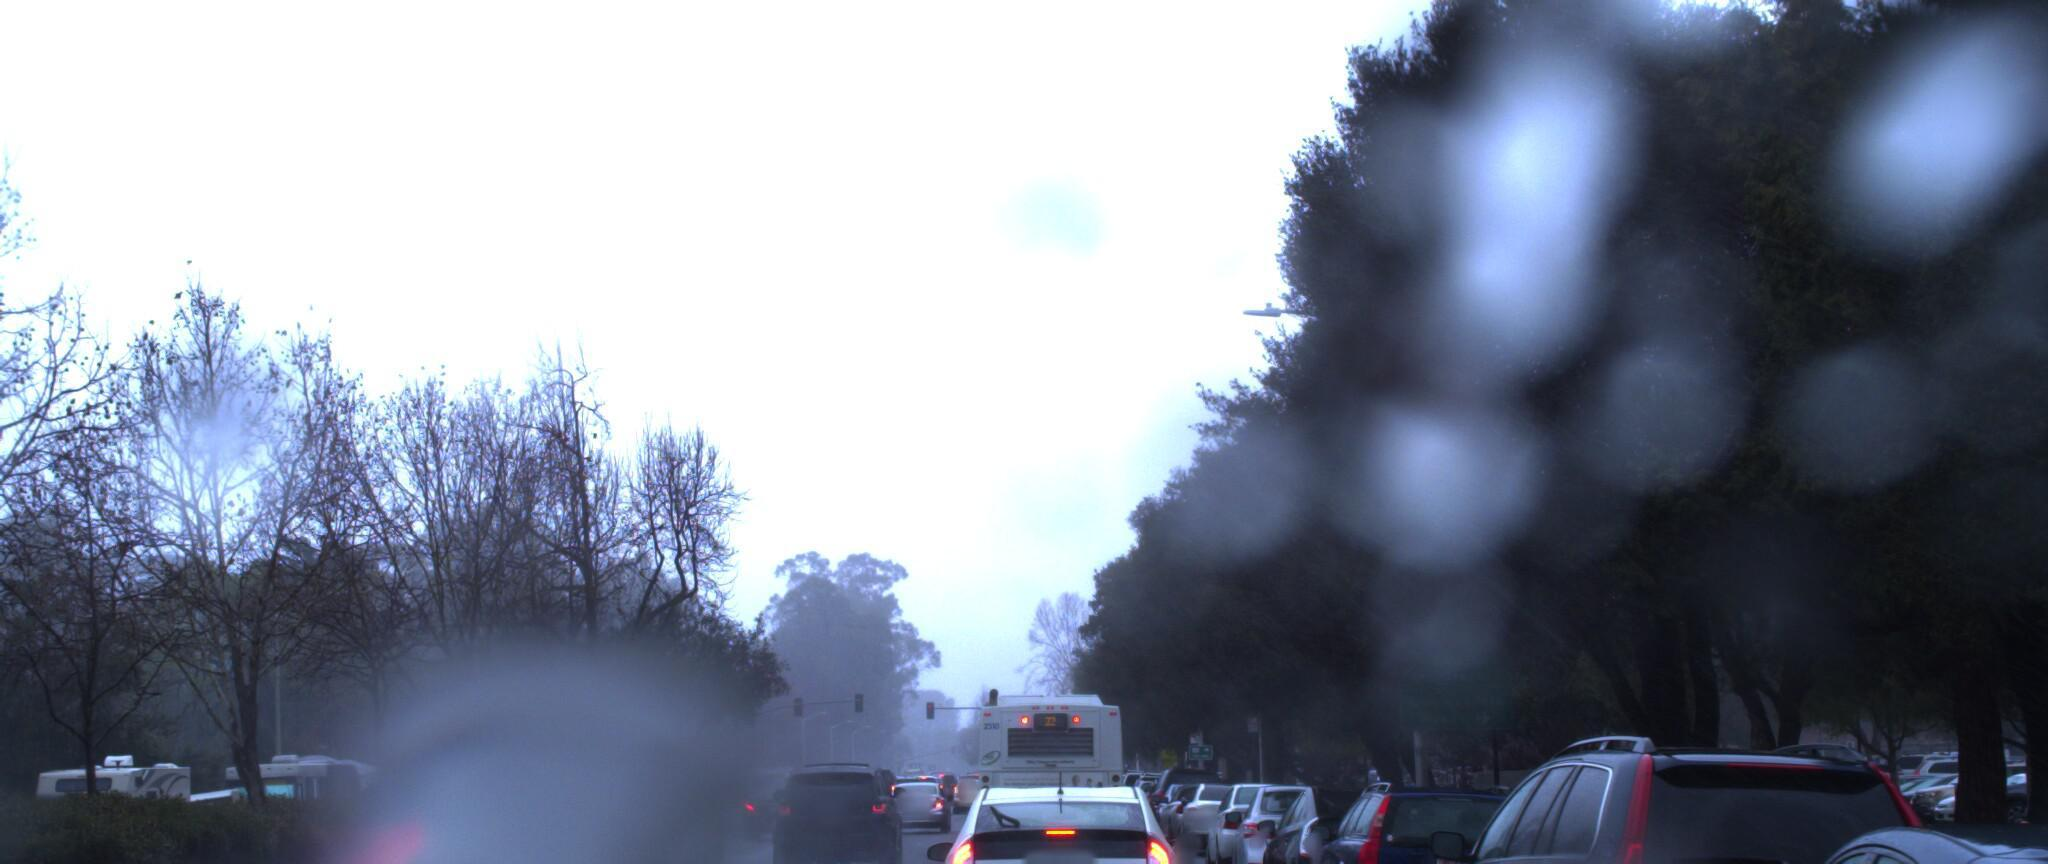bus: (970, 676, 1138, 864)
car: (1358, 724, 1975, 864), (933, 766, 1202, 864), (1643, 801, 2048, 864), (1271, 783, 1566, 864), (1233, 790, 1455, 864), (1199, 786, 1384, 864), (775, 764, 916, 864), (602, 770, 726, 864), (893, 778, 972, 844)
